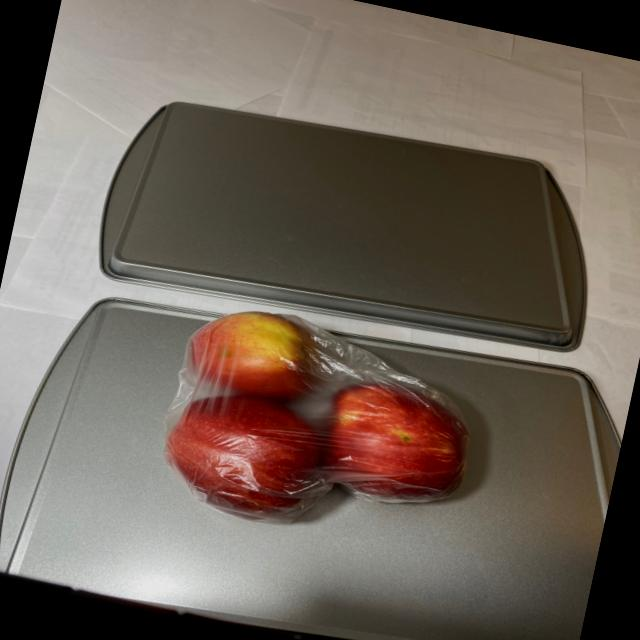apple: (152, 296, 503, 566)
